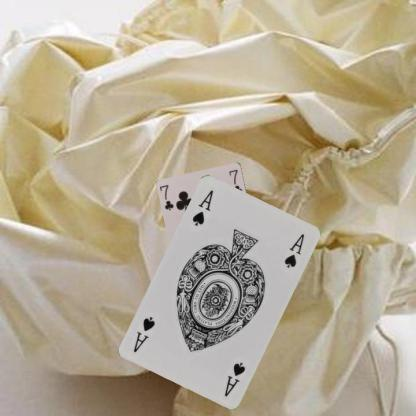7c: (157, 183, 175, 212)
As: (189, 187, 214, 227), (222, 359, 247, 397)
